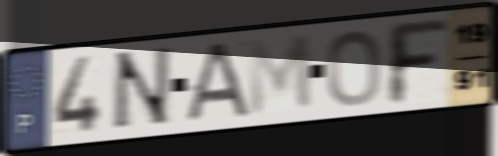4: (51, 53, 105, 136)
A: (179, 40, 254, 125)
F: (382, 18, 452, 109)
M: (247, 31, 315, 119)
N: (108, 44, 174, 135)
O: (325, 28, 384, 109)
